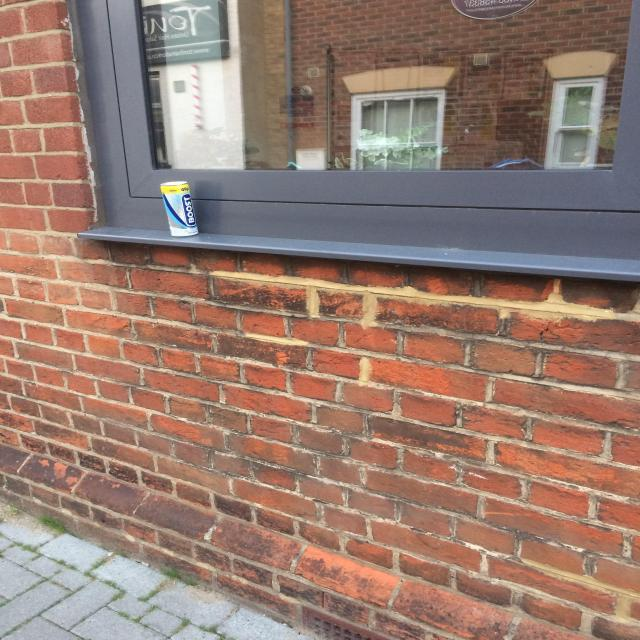litter: (161, 181, 199, 236)
